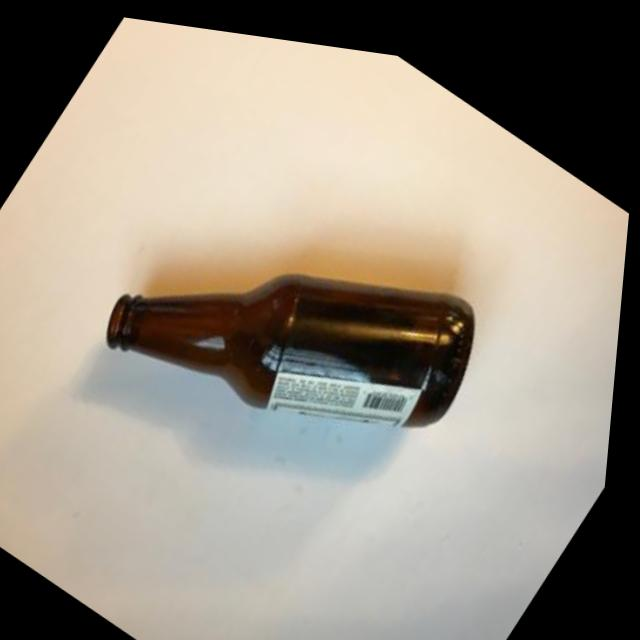glass: (33, 64, 573, 615)
